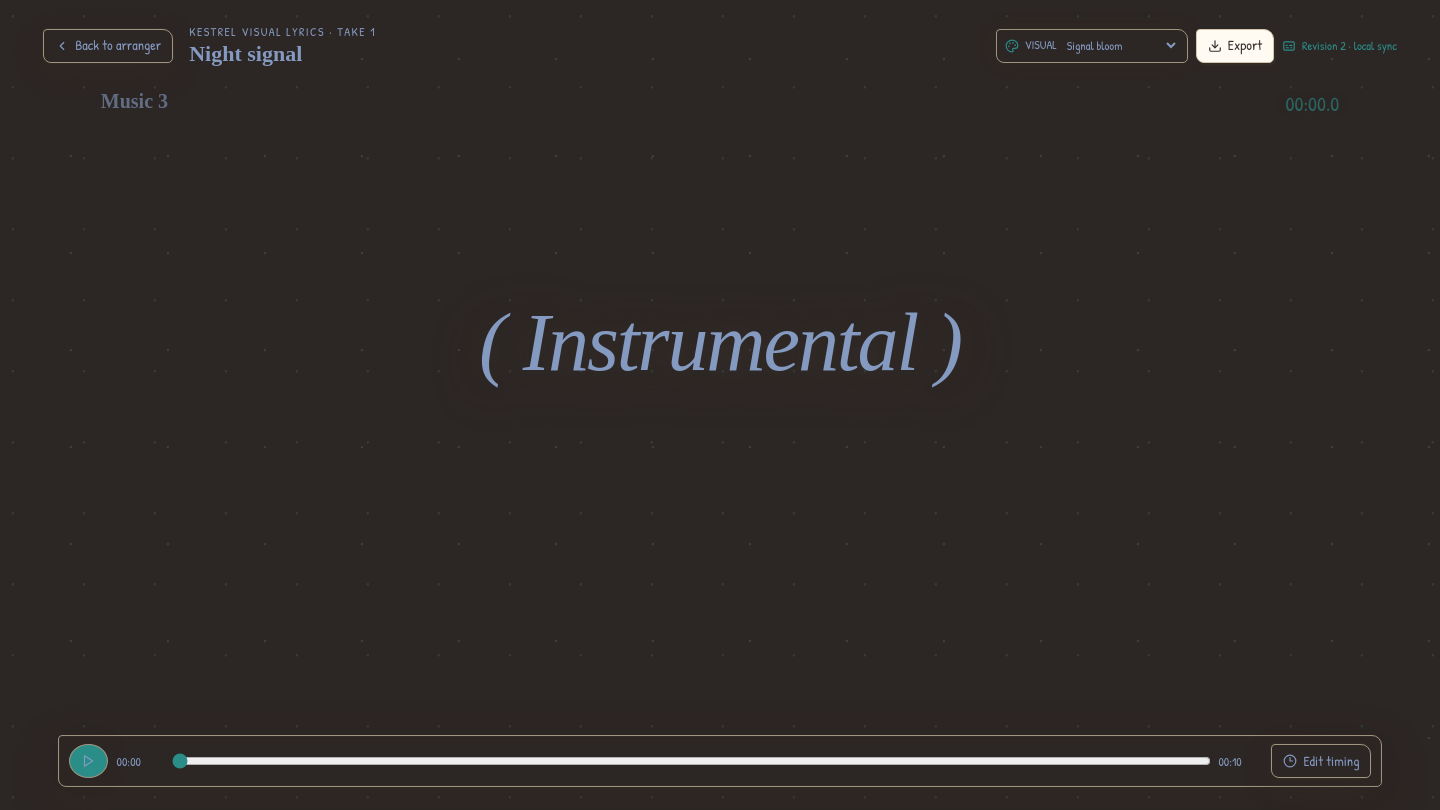
MusicStudio › exports the song with its word-timed lyrics and says what was saved
What coordinates should you click on to do the following:
click the button "Export"
I would click on:
 (1235, 46)
Its box is [1196,28,1274,62].
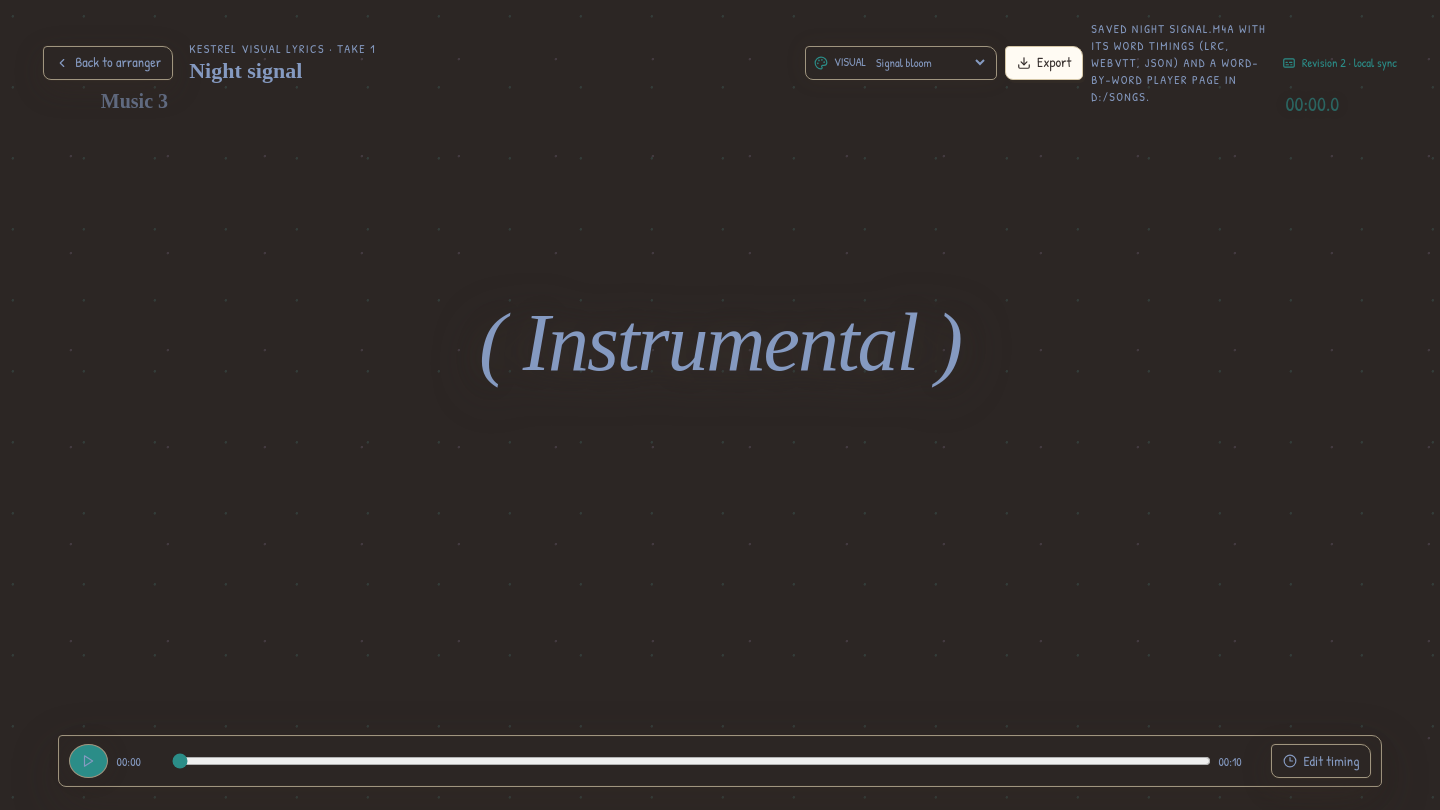
Now the text "Saved Night signal.m4a with its word timings (LRC, WebVTT, JSON) and a word-by-word player page in D:/Songs." is shown, box [1091,20,1266,105]
